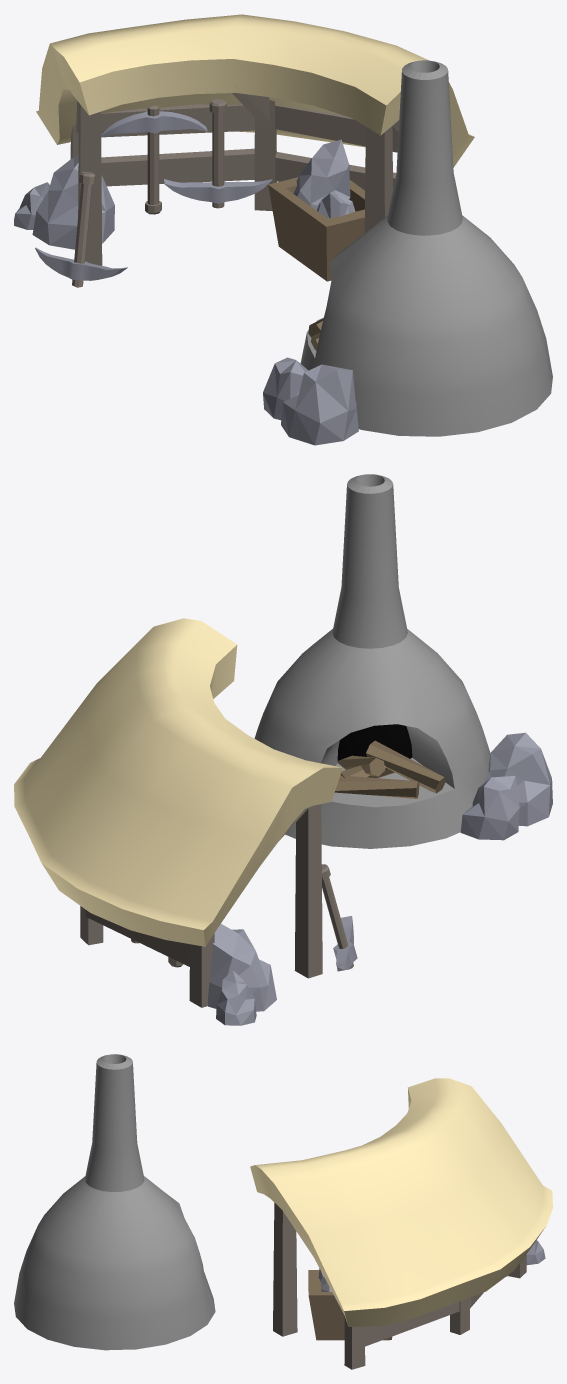
The model's file is furnace.glb.
3 views of the same model, one above another, from view 1: azimuth 30°, elevation 25°; view 2: azimuth 150°, elevation 25°; view 3: azimuth 270°, elevation 25° (orthographic). The views are drawn at different scales.
Parts seen in each view (by area): view 1: polySurface118; view 2: polySurface118; view 3: polySurface118.
Boxes of the visible parts, <box> form: polySurface118: <box>14,14,552,445</box>; polySurface118: <box>14,474,552,1025</box>; polySurface118: <box>14,1054,552,1369</box>.
Size of the model in its own units: 3.37 by 2.71 by 5.32.
